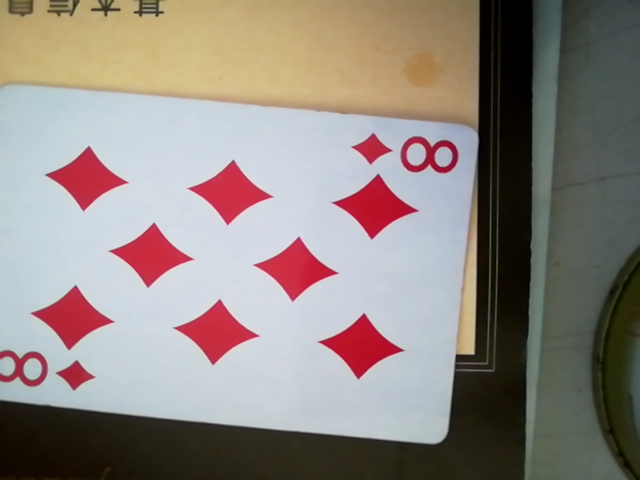fk 8: (0, 82, 494, 447)
